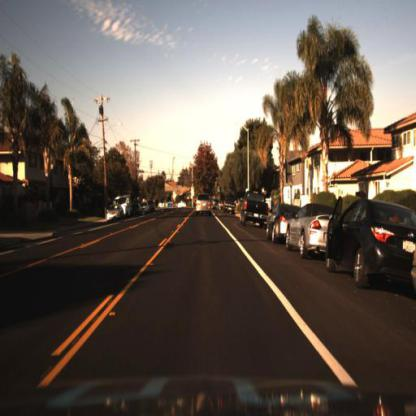car: (326, 197, 416, 292), (285, 198, 326, 262), (240, 189, 271, 232), (266, 195, 291, 243), (195, 192, 214, 223), (104, 202, 127, 224), (117, 195, 136, 220), (104, 203, 125, 222), (148, 196, 157, 216), (124, 198, 132, 219), (131, 203, 140, 221), (139, 200, 149, 216)
